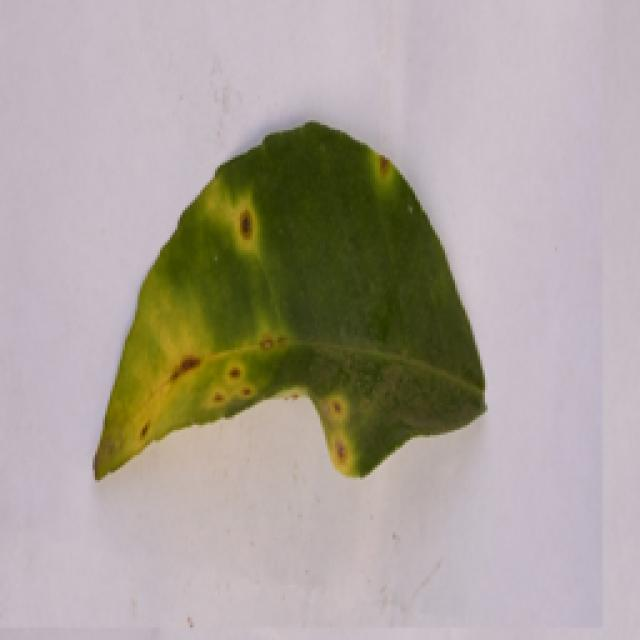canker: (90, 143, 439, 481)
